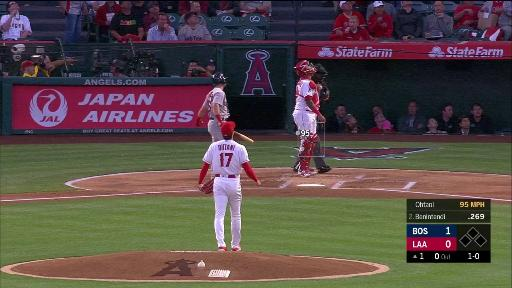pitcher: (196, 120, 261, 254)
